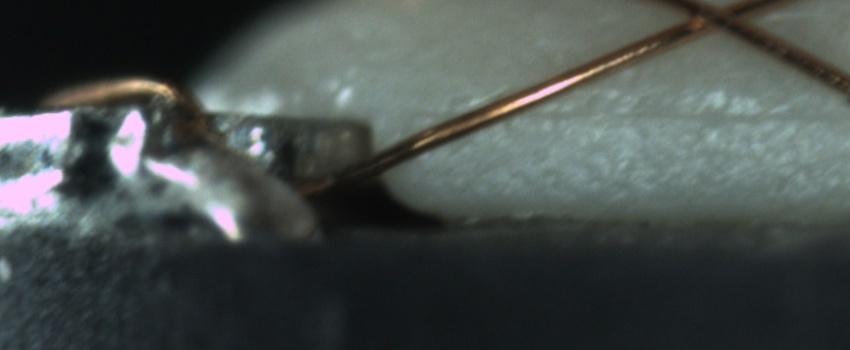CL: (673, 1, 753, 33)
DL: (444, 80, 850, 147)
TE: (37, 71, 209, 129)
